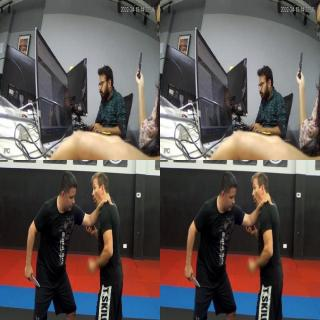knife: (24, 268, 40, 288), (184, 268, 200, 288), (296, 50, 305, 80), (136, 51, 144, 81)
